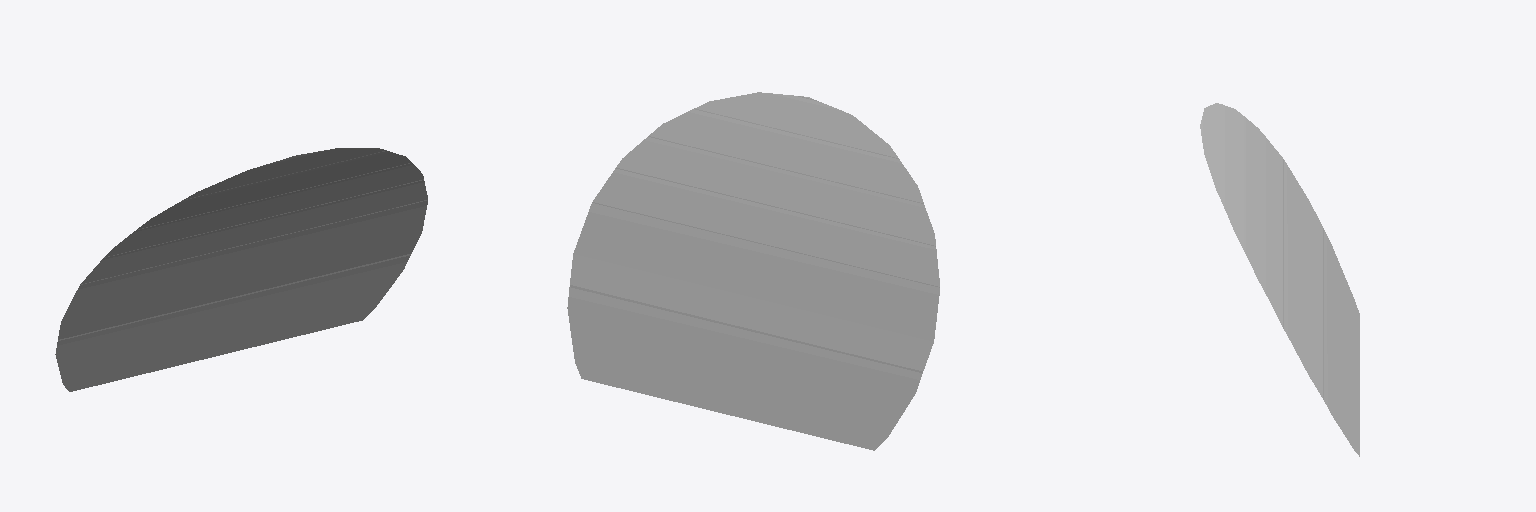
File: original-439.obj
3 views of the same model, side by side, from view 1: azimuth 30°, elevation 25°; view 2: azimuth 150°, elevation 25°; view 3: azimuth 270°, elevation 25° (orthographic).
Parts seen in each view (by area): view 1: #ID2954; view 2: #ID2954; view 3: #ID2954.
Boxes of the visible parts, box(x1,y1,x2,y2) form: #ID2954: box(55, 148, 427, 391); #ID2954: box(567, 92, 939, 450); #ID2954: box(1200, 103, 1359, 456).
Size of the model in its own units: 0.0211 by 0.0145 by 0.0081.